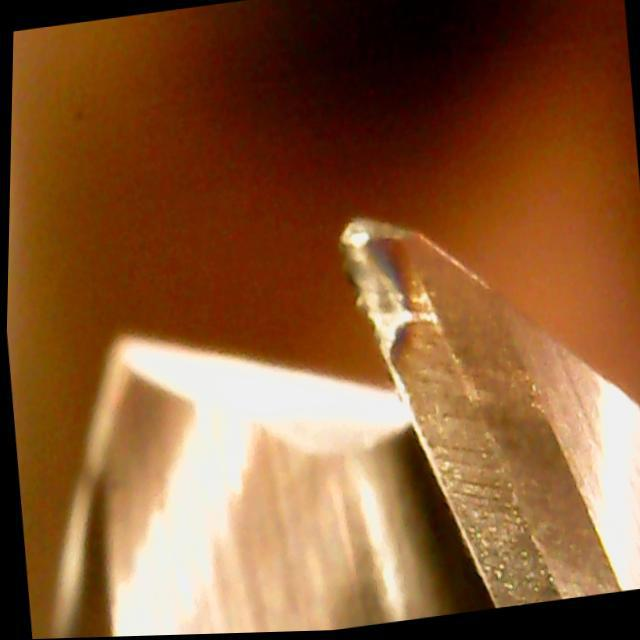Tool-wear-class-1: (323, 189, 543, 545)
